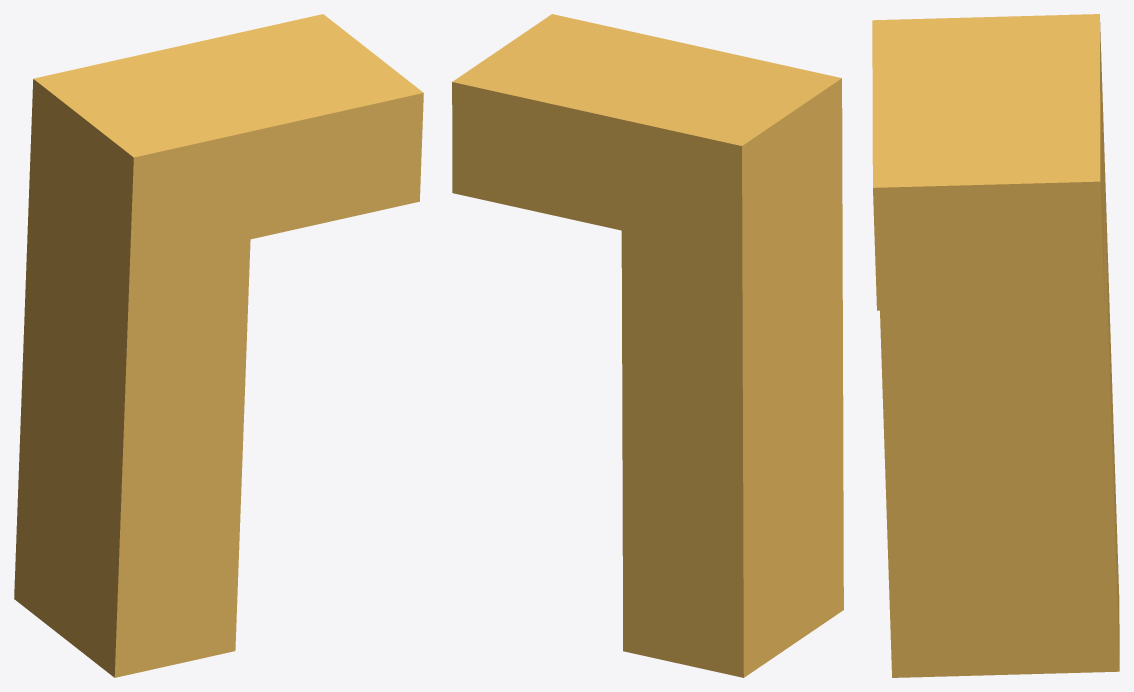
Rendered from cubicles_robot.dae.
3 views of the same model, side by side, from view 1: azimuth 30°, elevation 25°; view 2: azimuth 150°, elevation 25°; view 3: azimuth 270°, elevation 25° (orthographic). The views are drawn at different scales.
Parts seen in each view (by area): view 1: instance_0; view 2: instance_0; view 3: instance_0.
Part boxes in pixels (x1=…): instance_0: x1=14, y1=14, x2=423, y2=677; instance_0: x1=452, y1=14, x2=843, y2=677; instance_0: x1=872, y1=14, x2=1119, y2=677.
Size of the model in its own units: 46.68 by 29.33 by 78.89.
